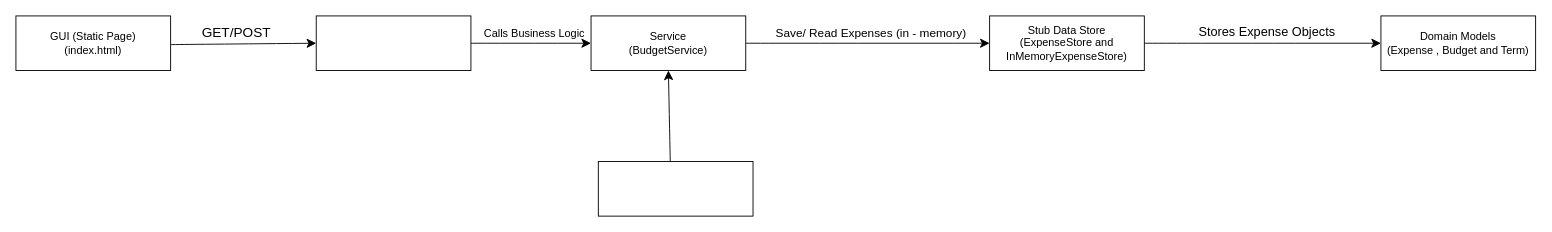
The diagram is 1552 pixels wide and 232 high, and some of its shapes have lost their labels. The shapes that lost their labels are listed below. From the top down, each one's centre as x and y in pixels, then its label:
pixel 393 43: Controllers (BudgetController and ExpenseController)
pixel 675 188: JUnit Tests (BudgetServiceTest)
